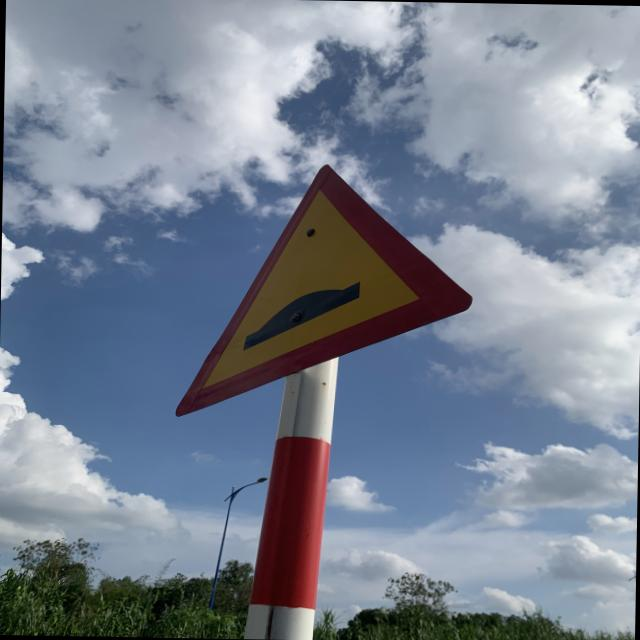Duong_Cong_Ben_Phai: (175, 160, 475, 423)
